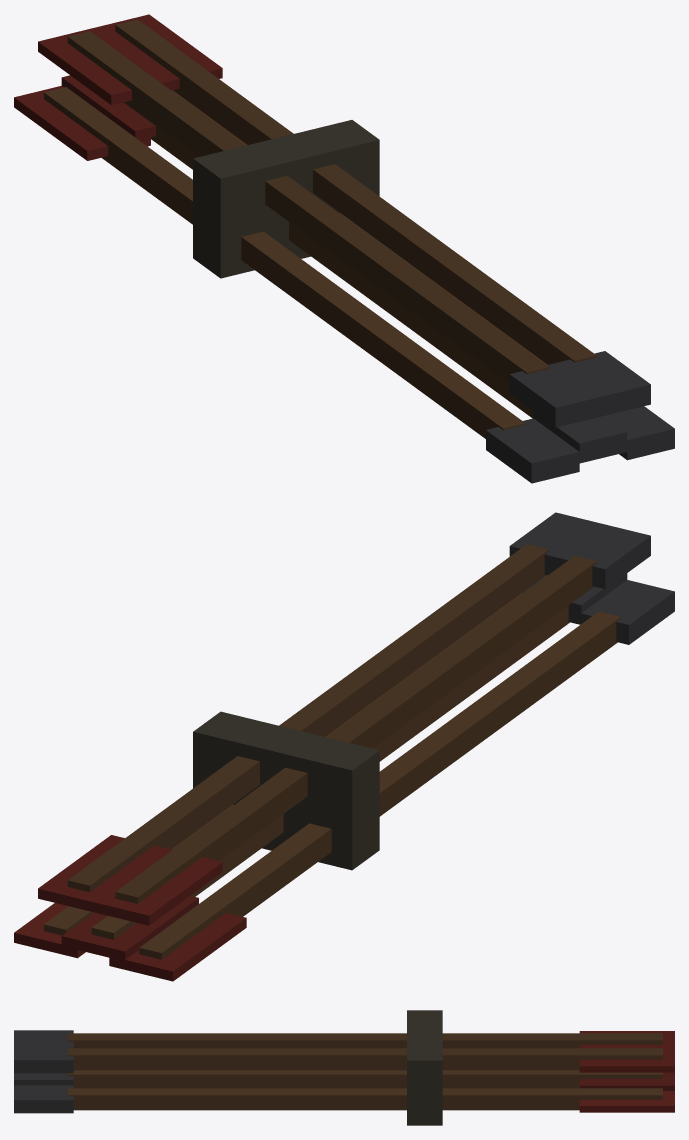
The model's file is arrow_bundle.glb.
The picture shows the model from 3 angles, top to bottom: view 1: azimuth 30°, elevation 25°; view 2: azimuth 150°, elevation 25°; view 3: azimuth 270°, elevation 25°; orthographic projection. The views are drawn at different scales.
Visible parts, largest first — view 1: ArrowBundle; view 2: ArrowBundle; view 3: ArrowBundle.
Part boxes in pixels (box(x1,y1,x2,y2)): ArrowBundle: box(14, 14, 674, 483); ArrowBundle: box(14, 512, 674, 981); ArrowBundle: box(14, 1010, 674, 1125).
Size of the model in its own units: 0.1 by 0.06 by 0.555.
